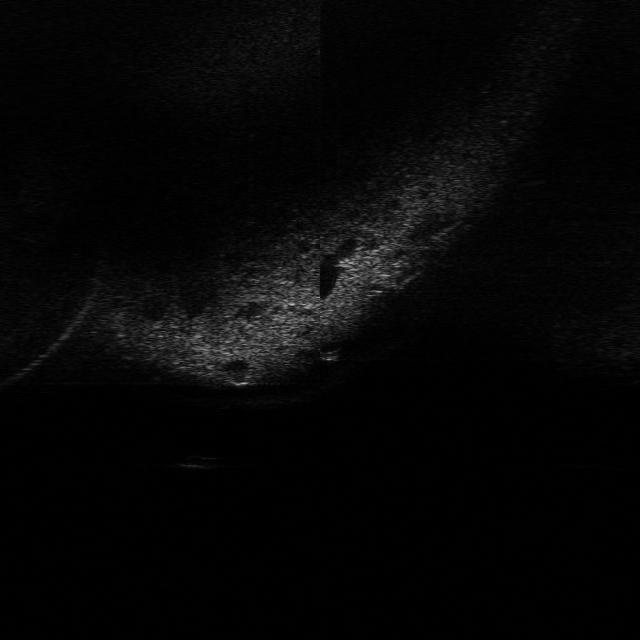ball: (310, 325, 348, 363)
cube: (174, 448, 226, 472)
